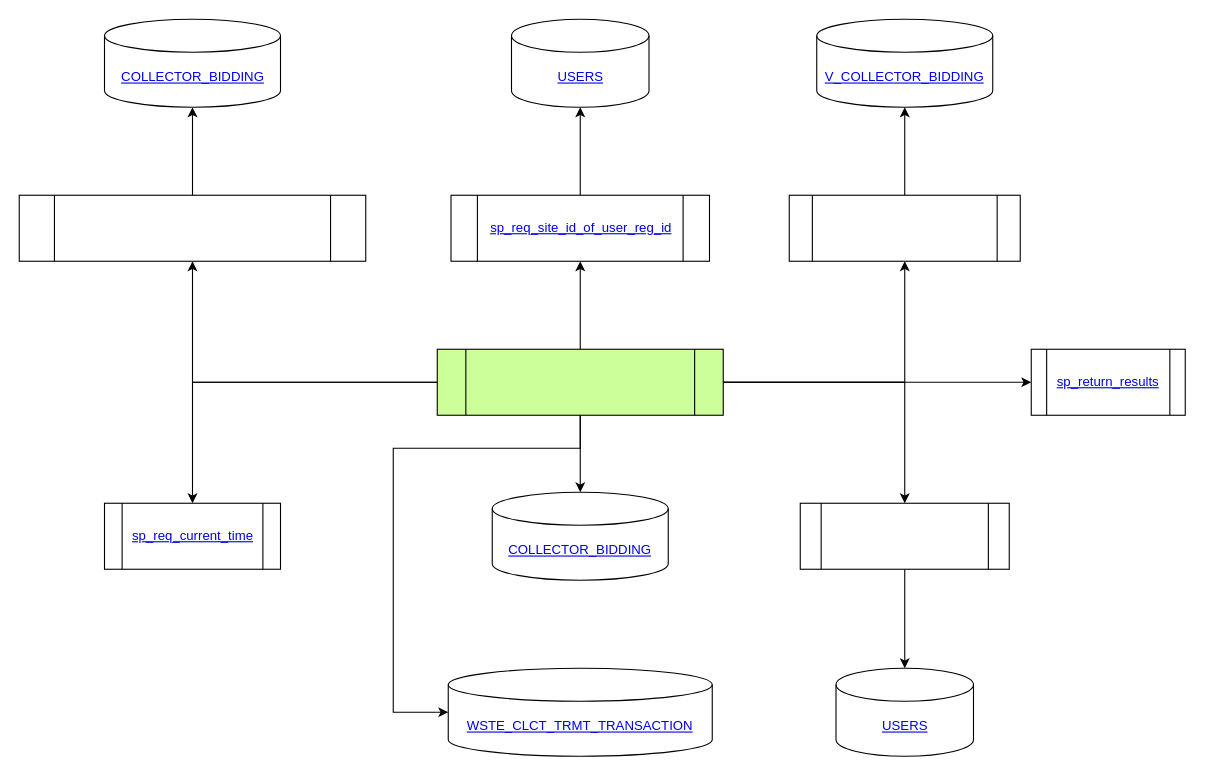
This 1205x776 diagram has some shape labels left out. The centre of each missing label's shape, as x and y in pixels:
sp_apply_refusal_of_final_decision: the point at 579,381
sp_req_disposal_id_of_collector_bidding_id: the point at 192,227
sp_req_is_site_final_bidder: the point at 904,227
sp_req_user_exists_by_id: the point at 904,535
